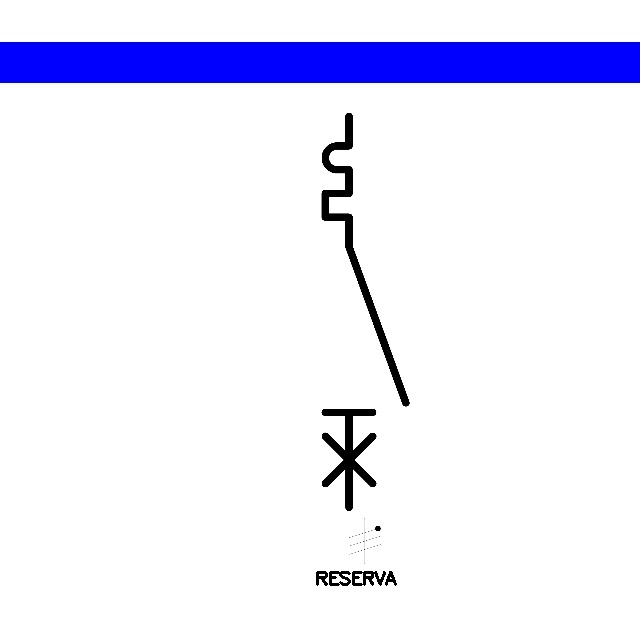interruptor_termomagnetico: (315, 106, 416, 518)
